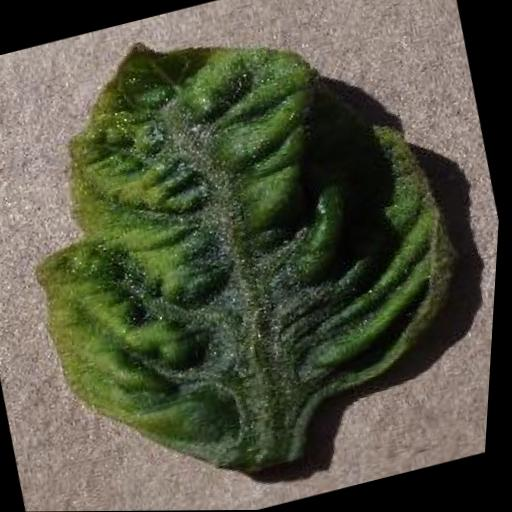Yellow Leaf Curl Virus: (0, 0, 508, 512)
